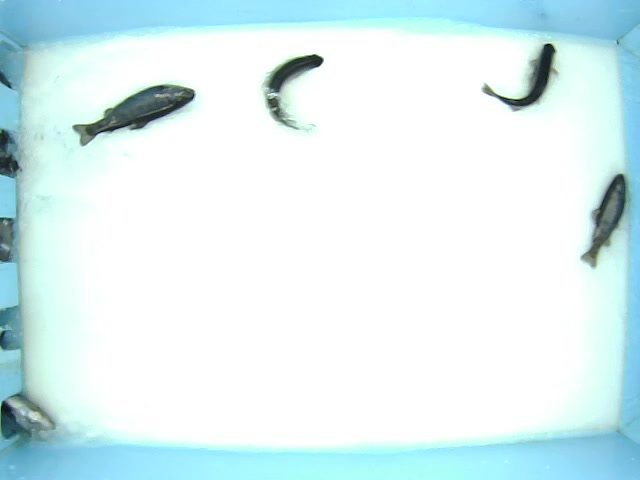fish: (63, 83, 200, 149), (567, 166, 639, 273), (469, 39, 555, 113), (260, 51, 327, 132)
